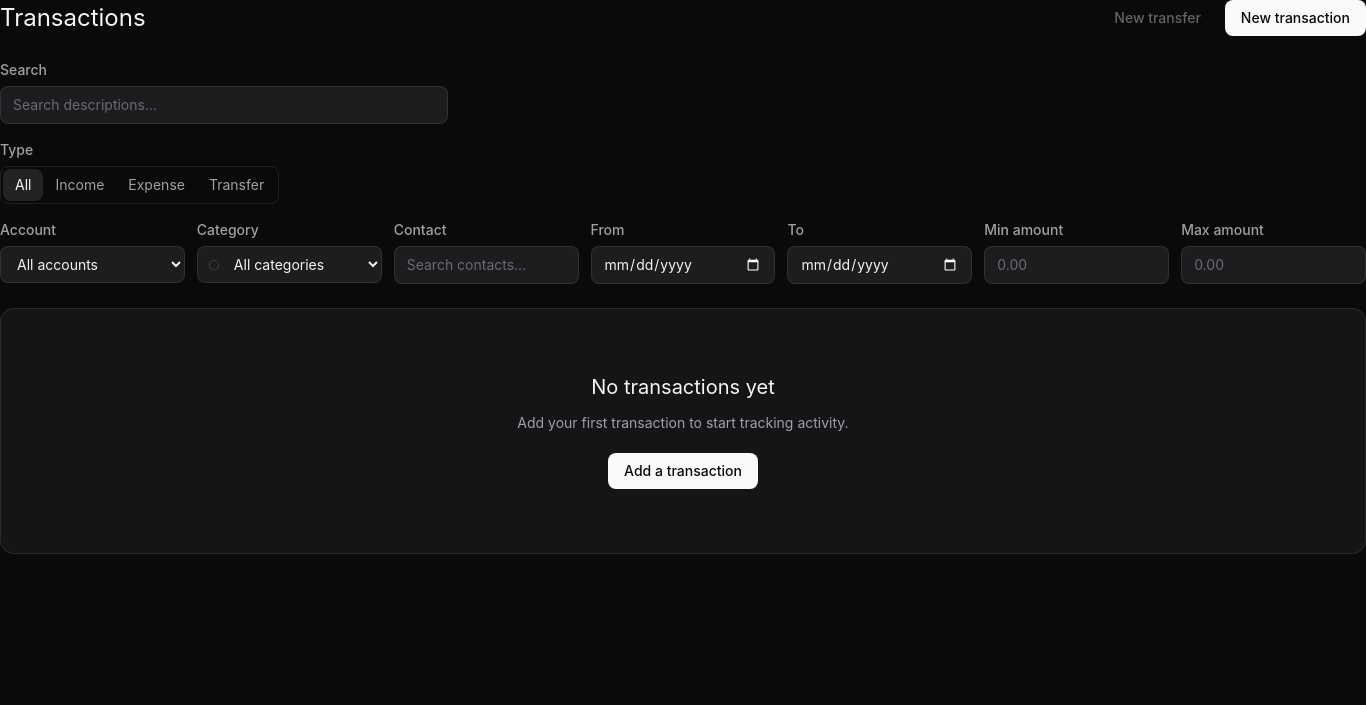
Test: TransactionsScreen › creates a transaction and shows it in the list
The width and height of the screenshot is (1366, 705).
expect the heading "No transactions yet" is shown: met, box 591,373 -> 775,401
Click the button "New transaction".
click(1295, 18)  # box 1225,0 -> 1365,36
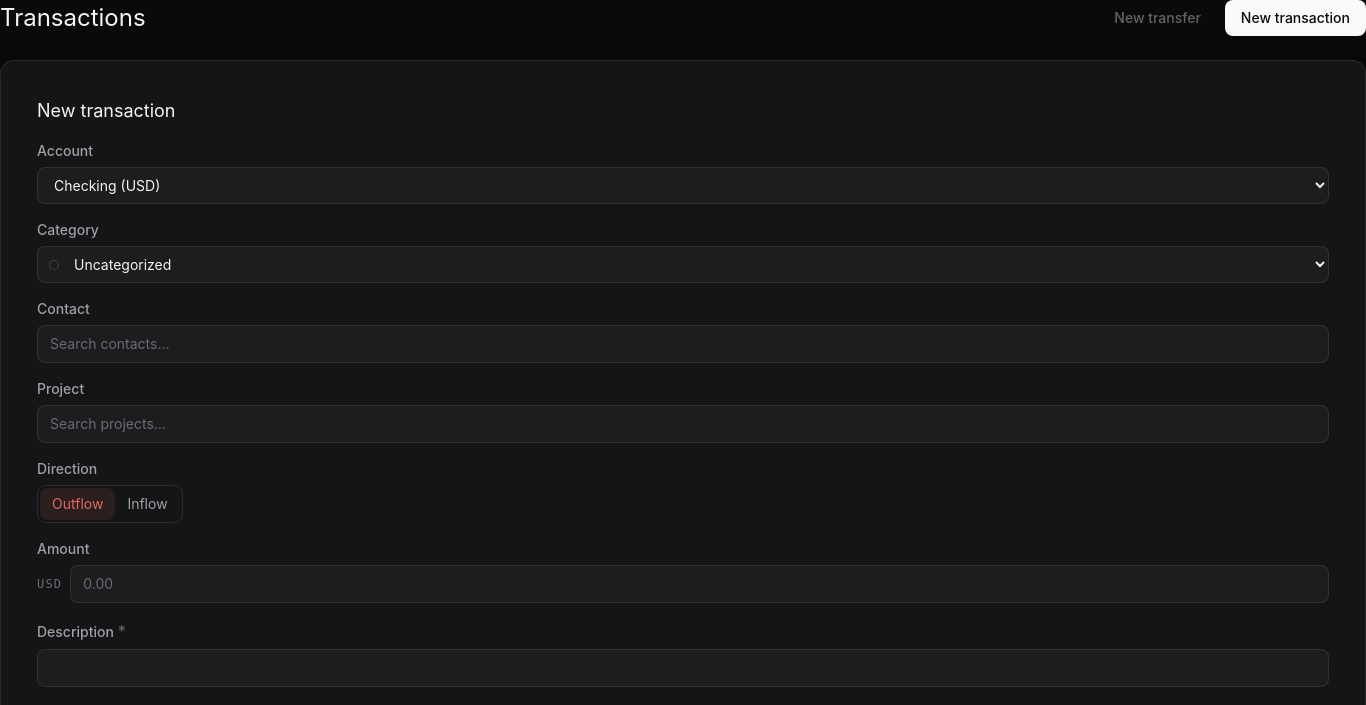
Type "12.50" into the field labelled "Amount".
click(700, 584); type("12.50")  # box 70,565 -> 1329,603
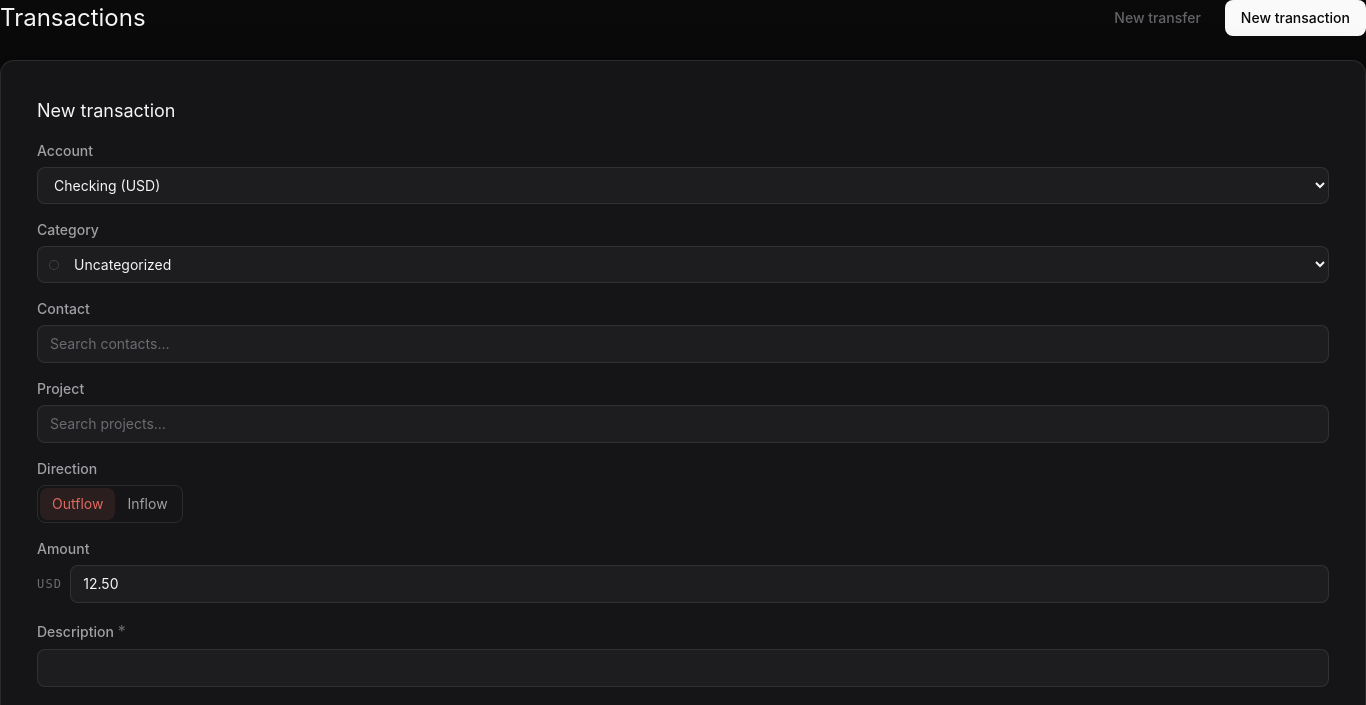
Type "Coffee" into the field labelled "Description".
click(683, 668); type("Coffee")  # box 37,649 -> 1329,687
(page scrolled)
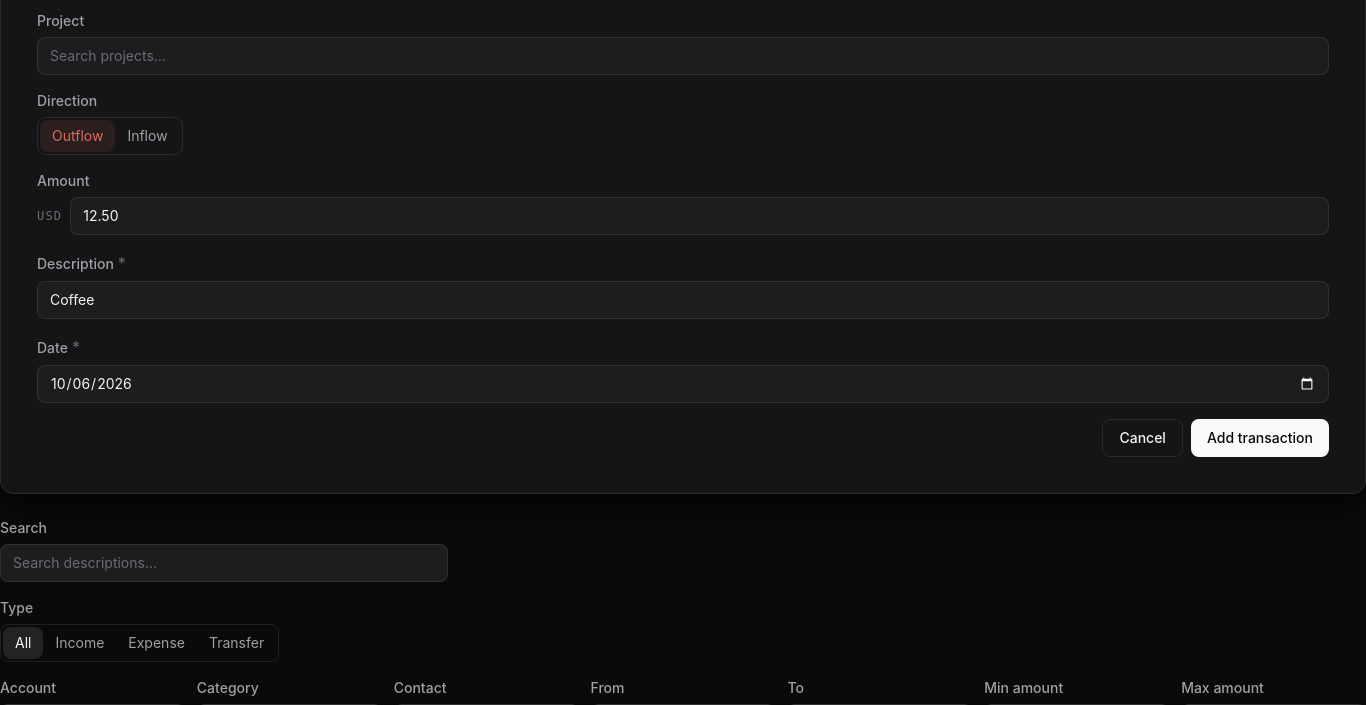
Type "2026-09-11" into the date field labelled "Date".
click(683, 384); type("2026-09-11")  # box 37,365 -> 1329,403
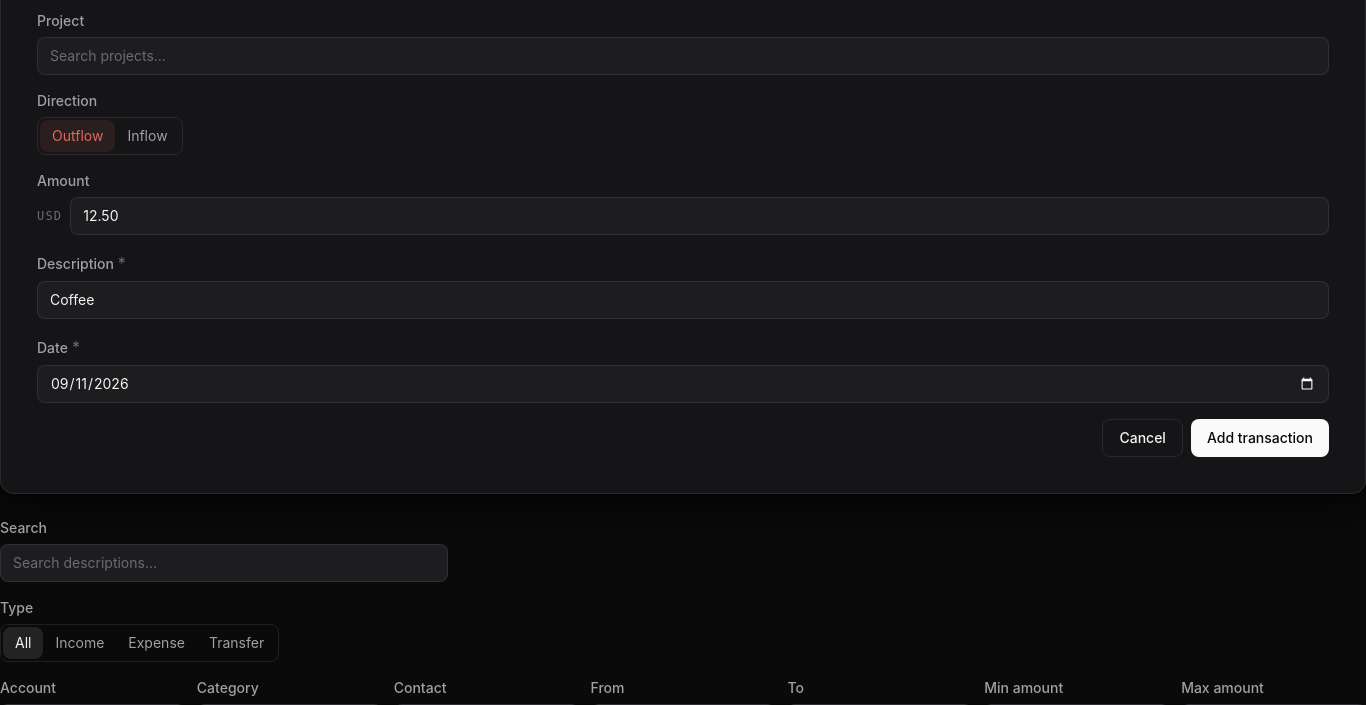
Click the button "Add transaction".
click(1260, 438)  # box 1191,419 -> 1329,457
(page scrolled)
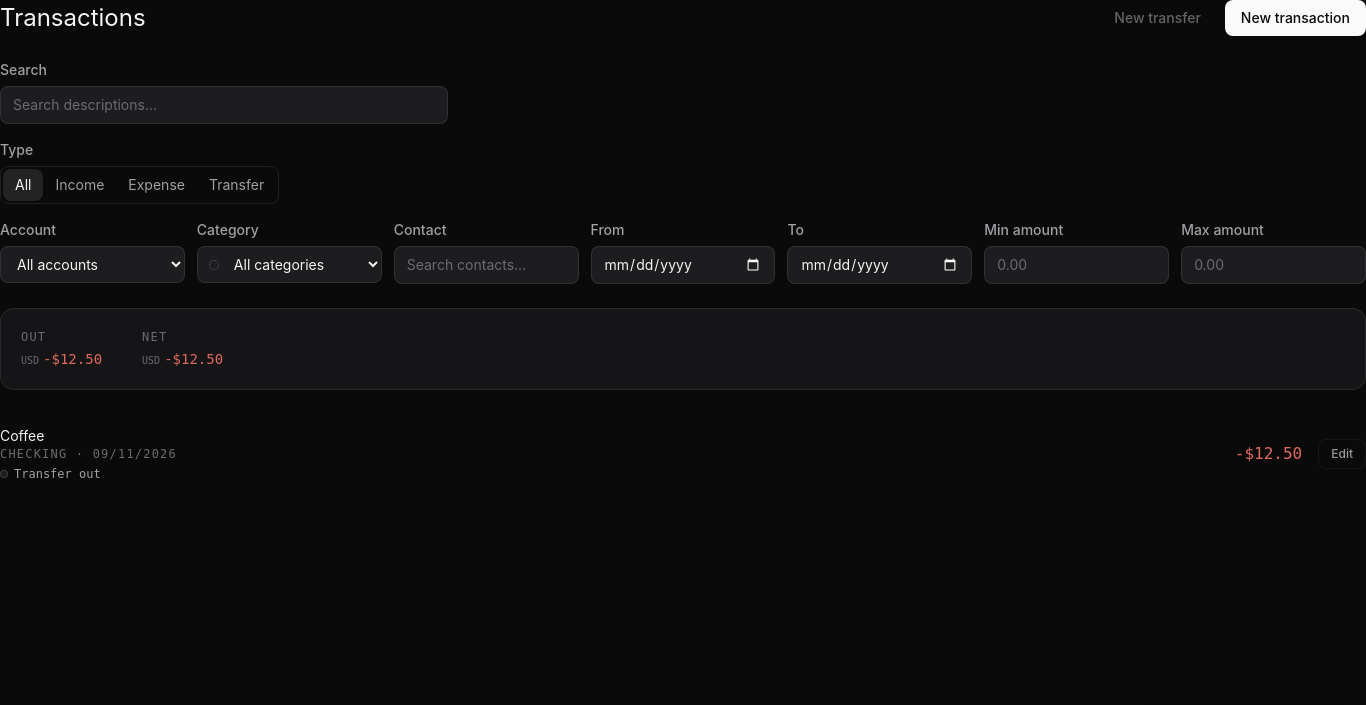
expect the text "Coffee" is shown: met, box 0,427 -> 44,444
